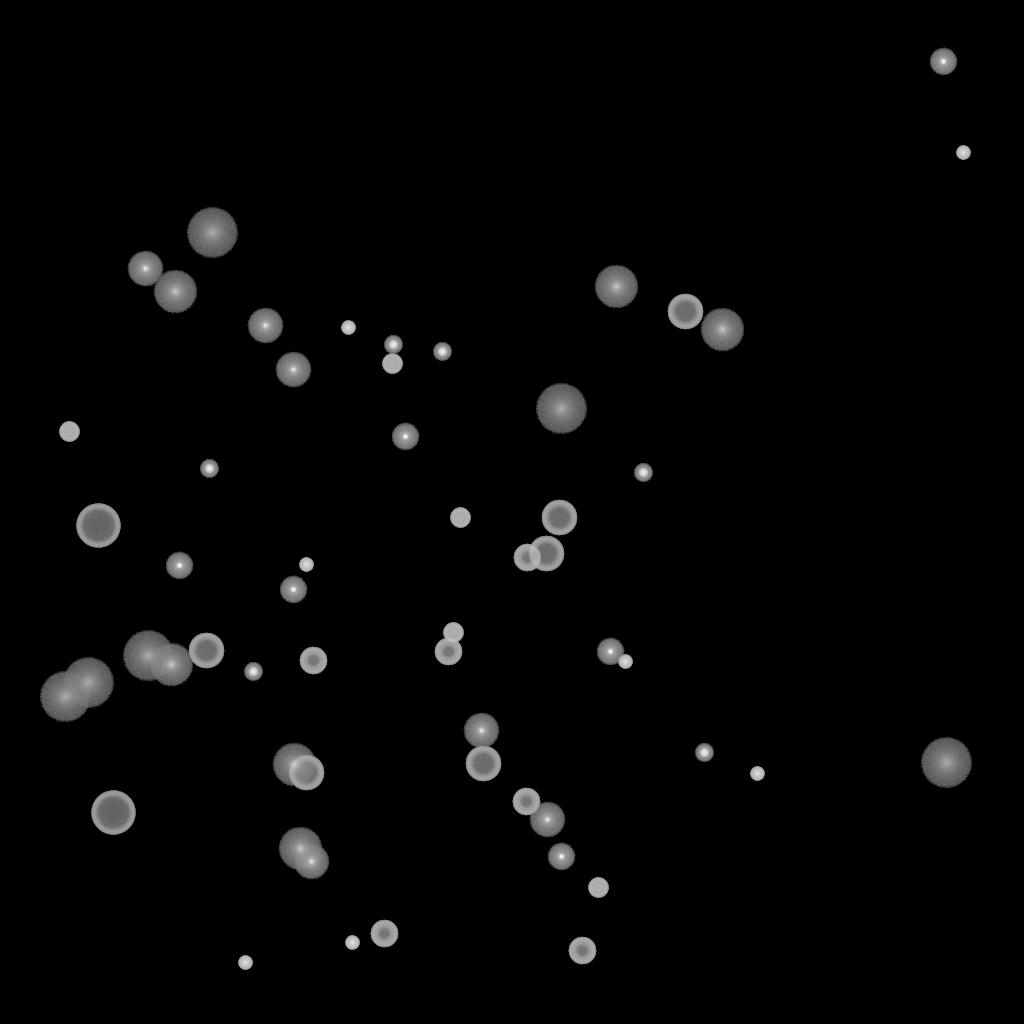depth:-10: (165, 552, 193, 580), (547, 843, 575, 871), (929, 48, 957, 76), (596, 638, 624, 666), (391, 423, 419, 451), (279, 576, 307, 604)
depth:-20: (244, 663, 262, 681), (433, 343, 451, 361), (384, 336, 402, 354), (634, 464, 652, 482), (695, 744, 713, 762), (200, 460, 218, 478)
depth:-30: (750, 767, 764, 781), (345, 936, 359, 950), (341, 321, 355, 335), (618, 655, 632, 669), (238, 956, 252, 970), (956, 146, 970, 160), (299, 558, 313, 572)
depth:-40: (450, 508, 470, 528), (588, 878, 608, 898), (59, 422, 79, 442), (382, 354, 402, 374), (443, 623, 463, 643)
depth:-50: (299, 647, 327, 675), (370, 920, 398, 948), (513, 544, 541, 572), (434, 638, 462, 666), (512, 788, 540, 816), (568, 937, 596, 965)
depth:-60: (288, 755, 324, 791), (667, 294, 703, 330), (465, 746, 501, 782), (188, 633, 224, 669), (541, 500, 577, 536), (528, 536, 564, 572)
depth:-70: (91, 791, 135, 835), (76, 504, 120, 548)
depth:0: (463, 713, 499, 749), (529, 802, 565, 838), (275, 352, 311, 388), (293, 844, 329, 880), (247, 308, 283, 344), (127, 251, 163, 287)
depth:10: (700, 308, 744, 352), (594, 265, 638, 309), (149, 643, 193, 687), (153, 270, 197, 314), (272, 743, 316, 787), (278, 827, 322, 871)
depth:20: (122, 631, 174, 681), (920, 738, 972, 788), (535, 384, 587, 434), (62, 658, 114, 708), (186, 208, 238, 258), (39, 672, 91, 722)
